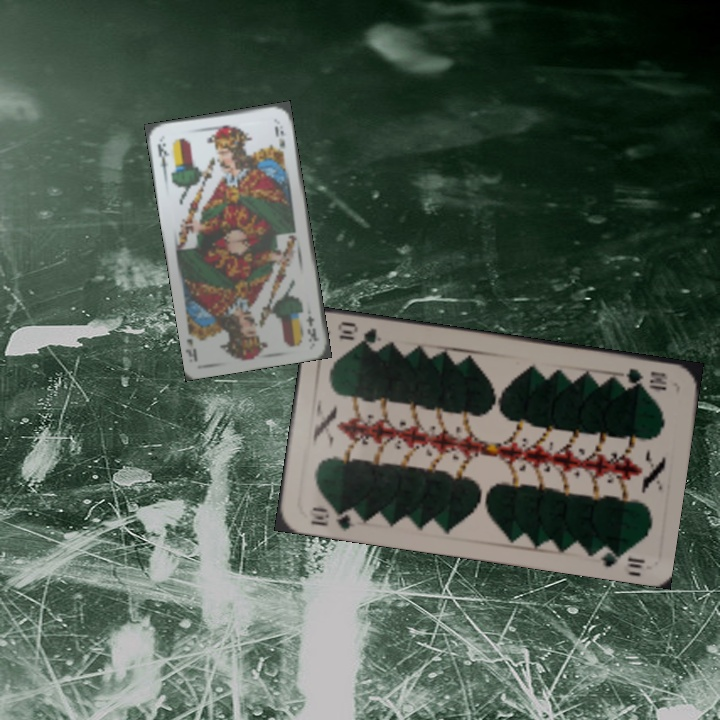EK: (153, 139, 172, 177), (302, 311, 322, 344)
G10: (305, 502, 361, 533), (622, 364, 669, 392)
